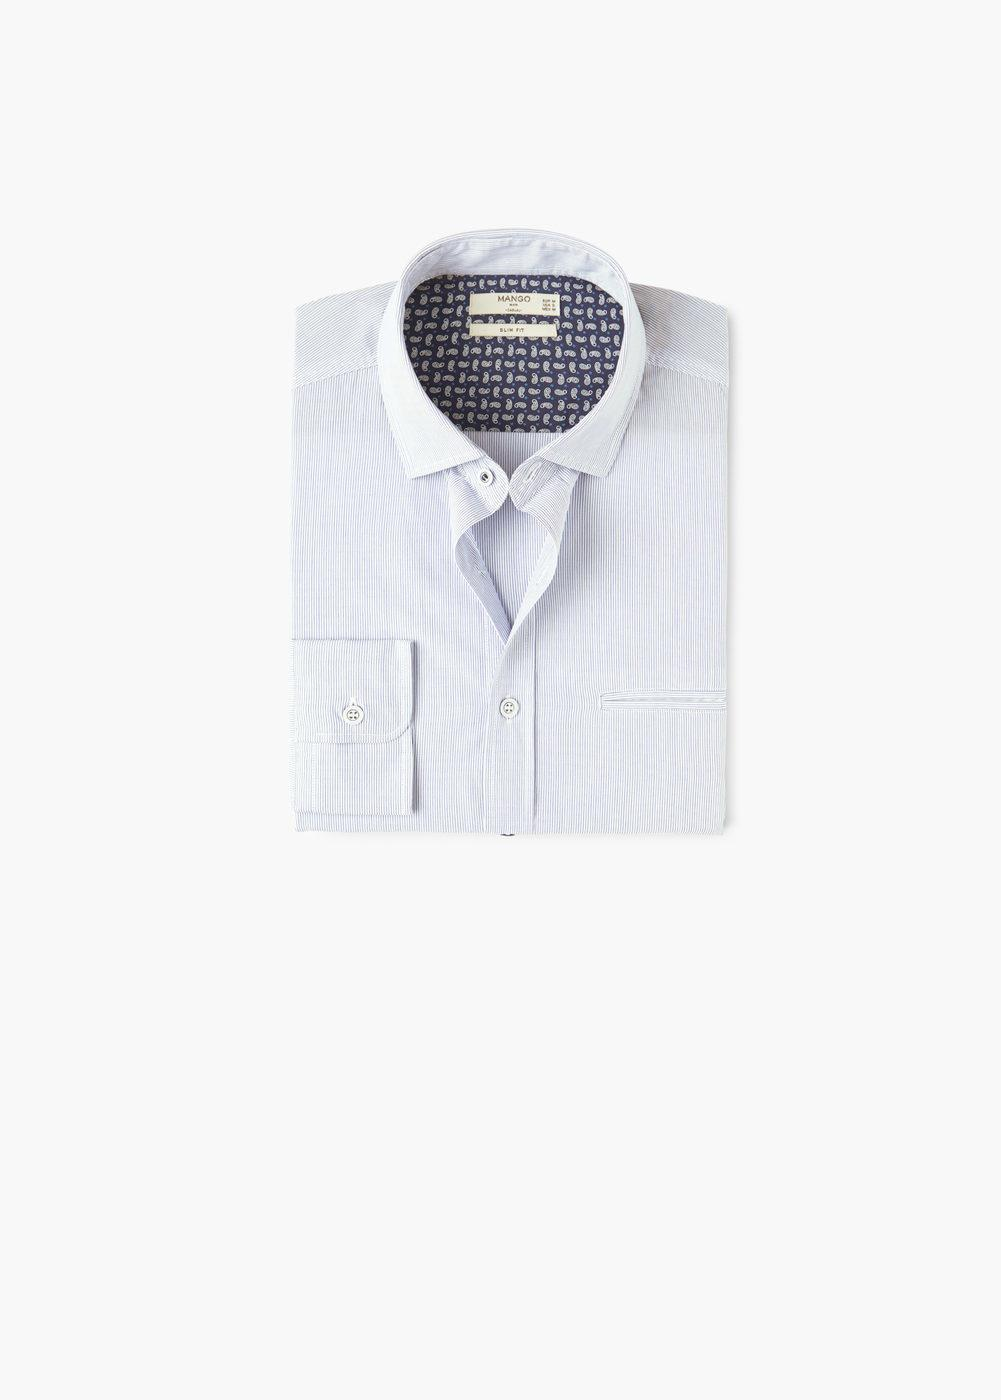teeshirt: (259, 221, 759, 891)
